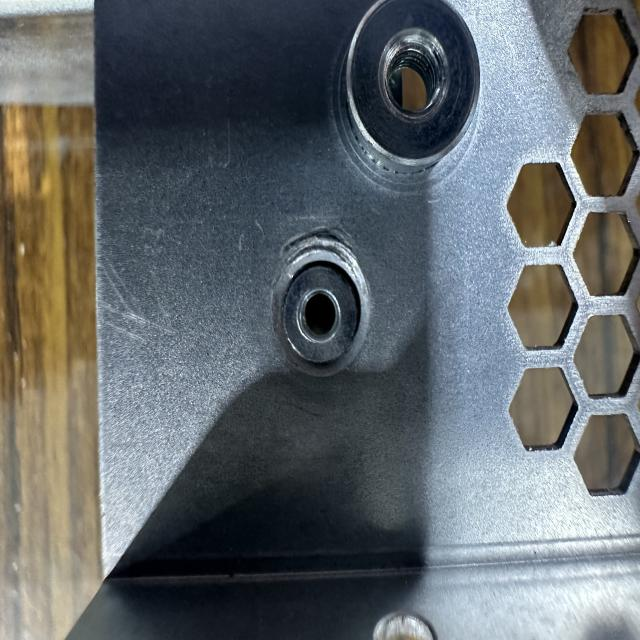Missing screw: (258, 224, 376, 388)
